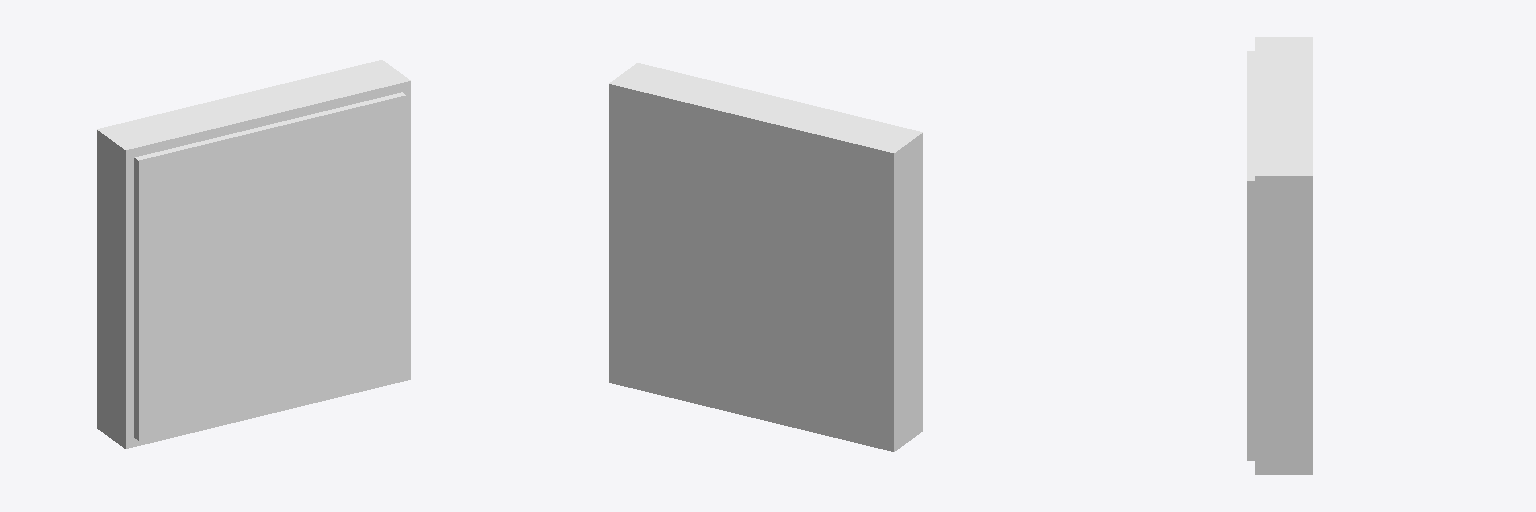
The model's file is lv01-floor-arrow-jump.obj.
The picture shows the model from 3 angles: view 1: azimuth 30°, elevation 25°; view 2: azimuth 150°, elevation 25°; view 3: azimuth 270°, elevation 25°; orthographic projection.
Visible parts, largest first — view 1: Object.1; view 2: Object.1; view 3: Object.1.
Boxes of the visible parts, <box> form: Object.1: <box>97,60,410,448</box>; Object.1: <box>609,63,922,451</box>; Object.1: <box>1247,37,1312,474</box>.
Bounding box in the file's own units: 1 × 1 × 0.2.